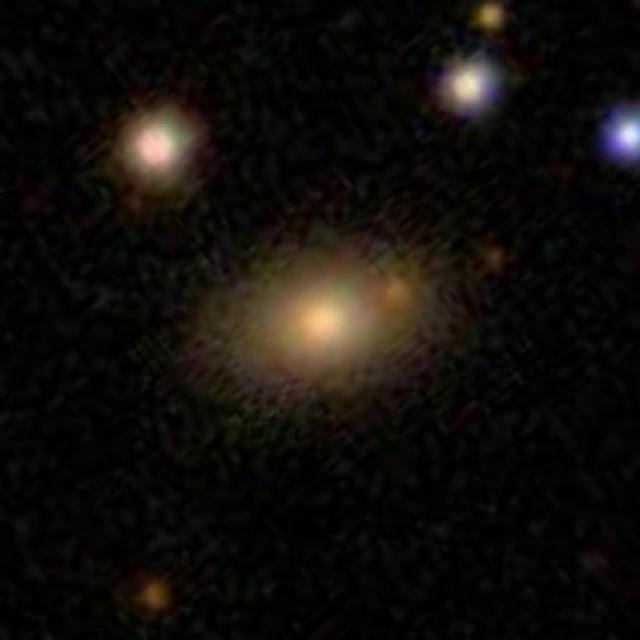galaxy: (170, 224, 511, 430), (101, 88, 211, 205), (435, 49, 504, 118), (596, 105, 640, 166), (140, 577, 175, 614), (481, 243, 513, 277), (473, 4, 506, 36)
